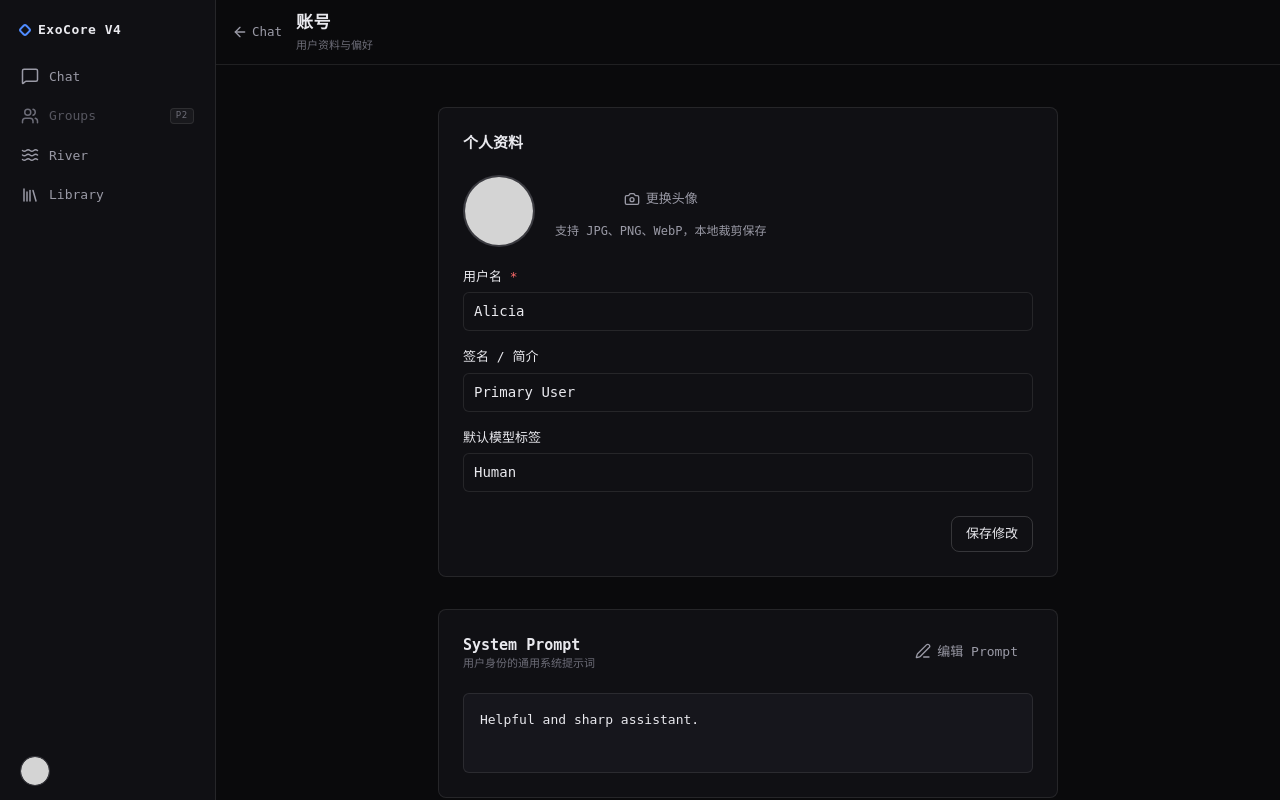
Test case: Phase 2C CP C-1 — Shell, Routes, Title & Account › Profile Modification & Field Isolation › handles DRF 400 field error and preserves draft
The image size is (1280, 800).
Replace the text in the field showing "Alicia" with "ReservedName". click: (748, 312)
box: [463,292,1033,331]
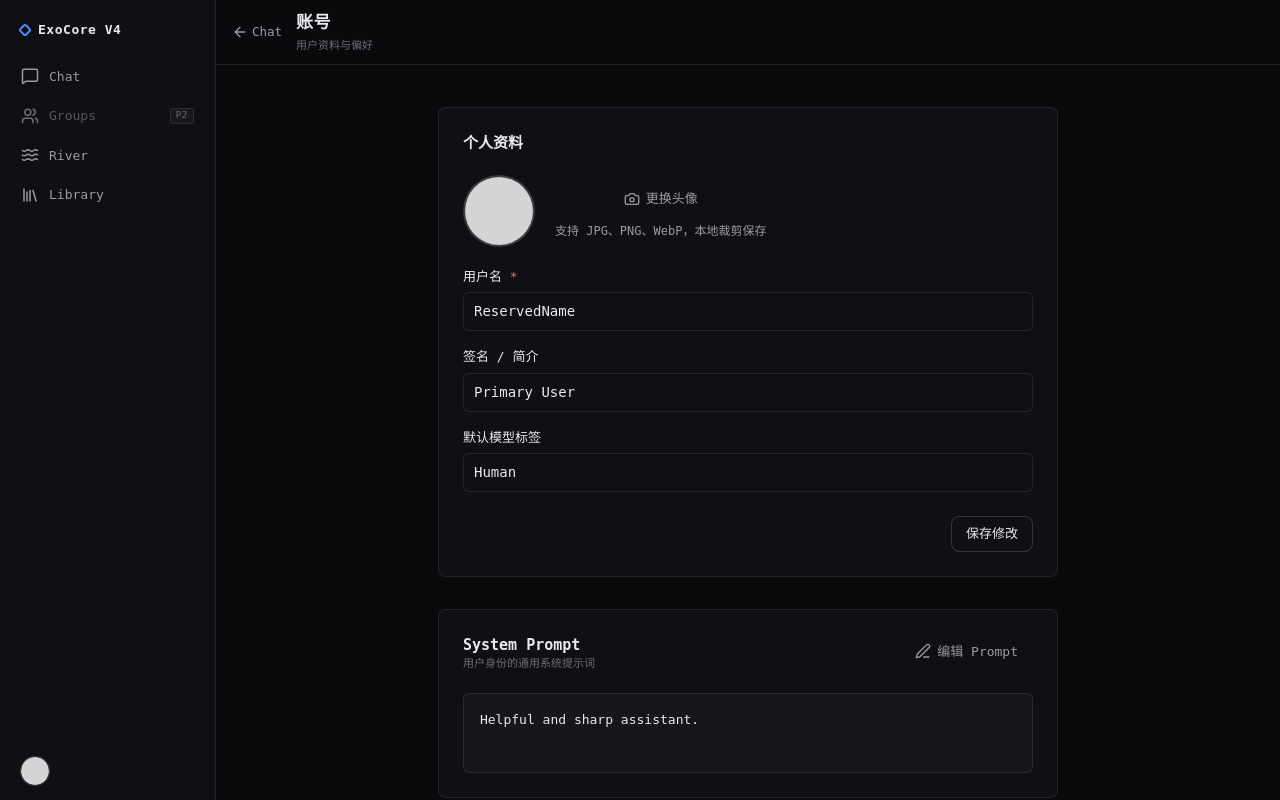
Click the button "保存修改". click: (992, 534)
box: [951,516,1033,552]
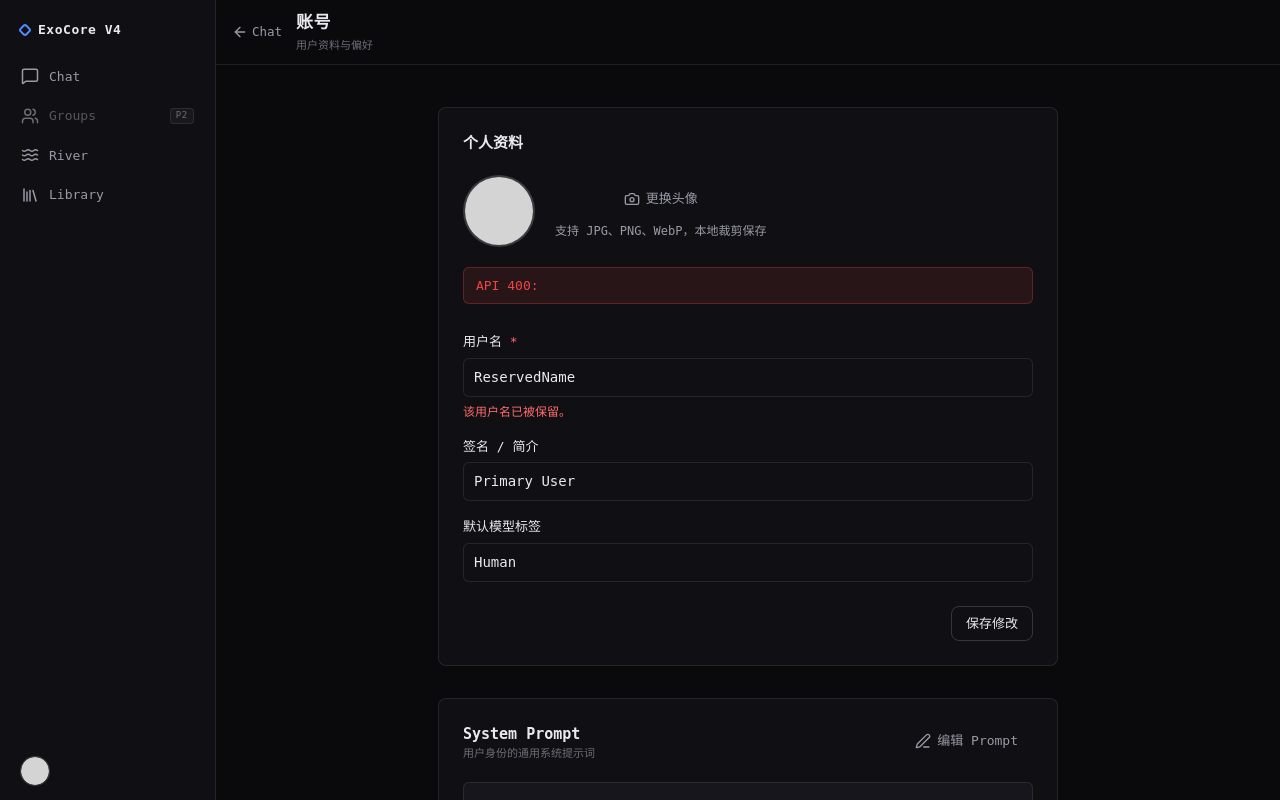
Expected: the text "该用户名已被保留。" is shown, [463,404,571,418]
